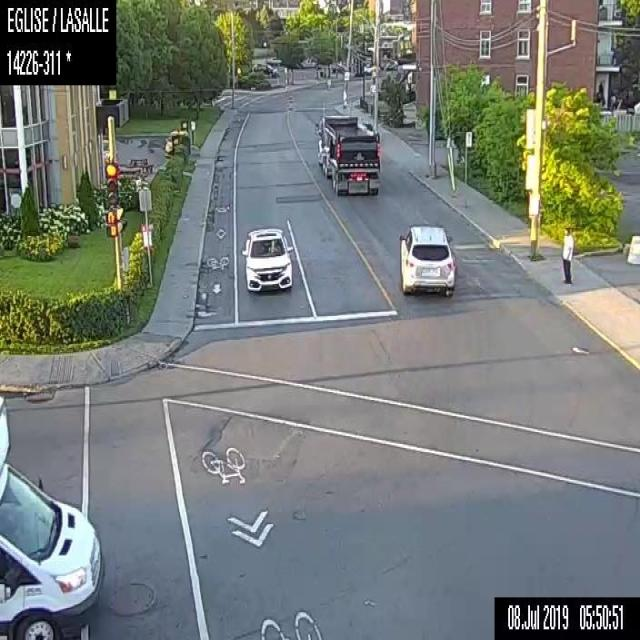pedestrian: (561, 227, 574, 281)
vehicle: (0, 393, 104, 639), (313, 113, 380, 196), (398, 223, 455, 296), (240, 227, 294, 290), (164, 129, 190, 158), (252, 61, 279, 76)
